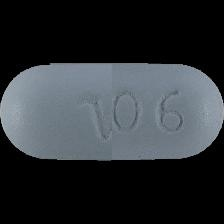68258-7160: (0, 0, 224, 224)
